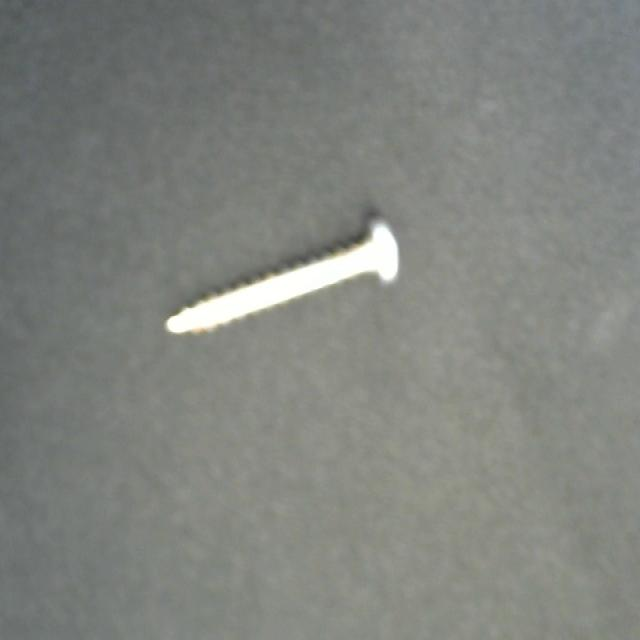SheetMetalScrew: (159, 212, 413, 343)
